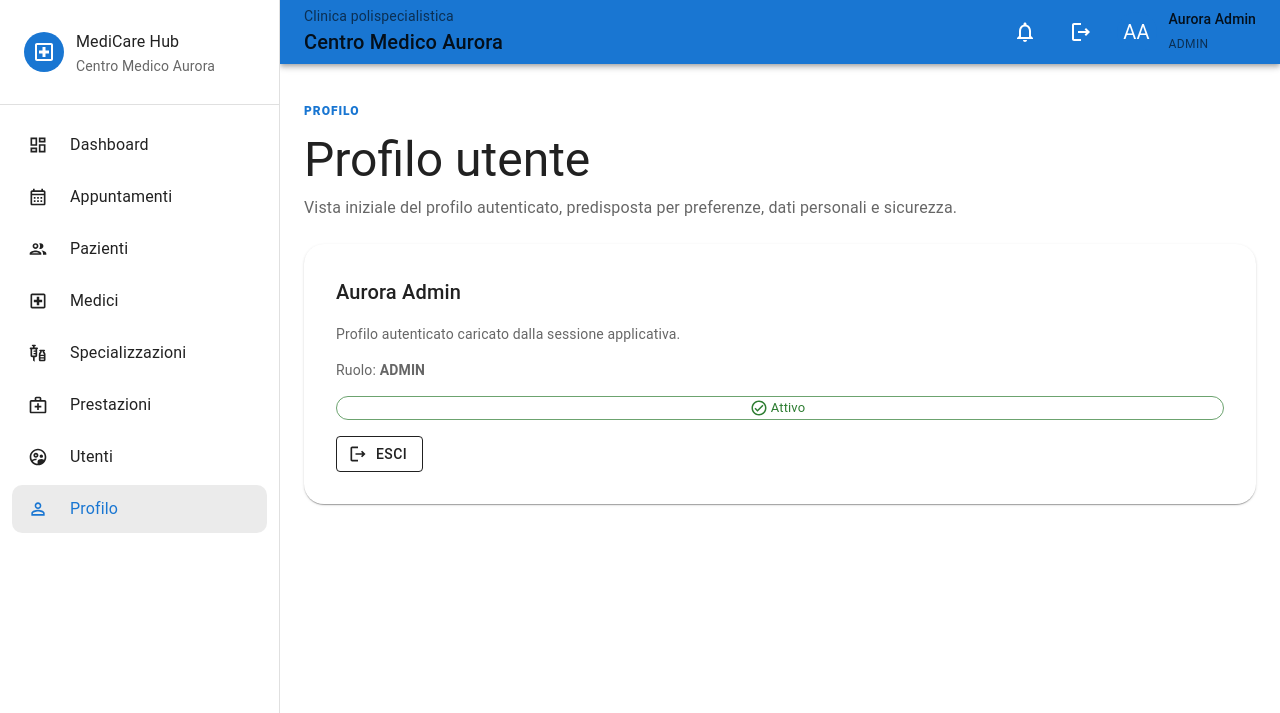
frontend auth › logs out from profile page
Click the button "Esci".
click(380, 454)  # box [336, 436, 423, 472]
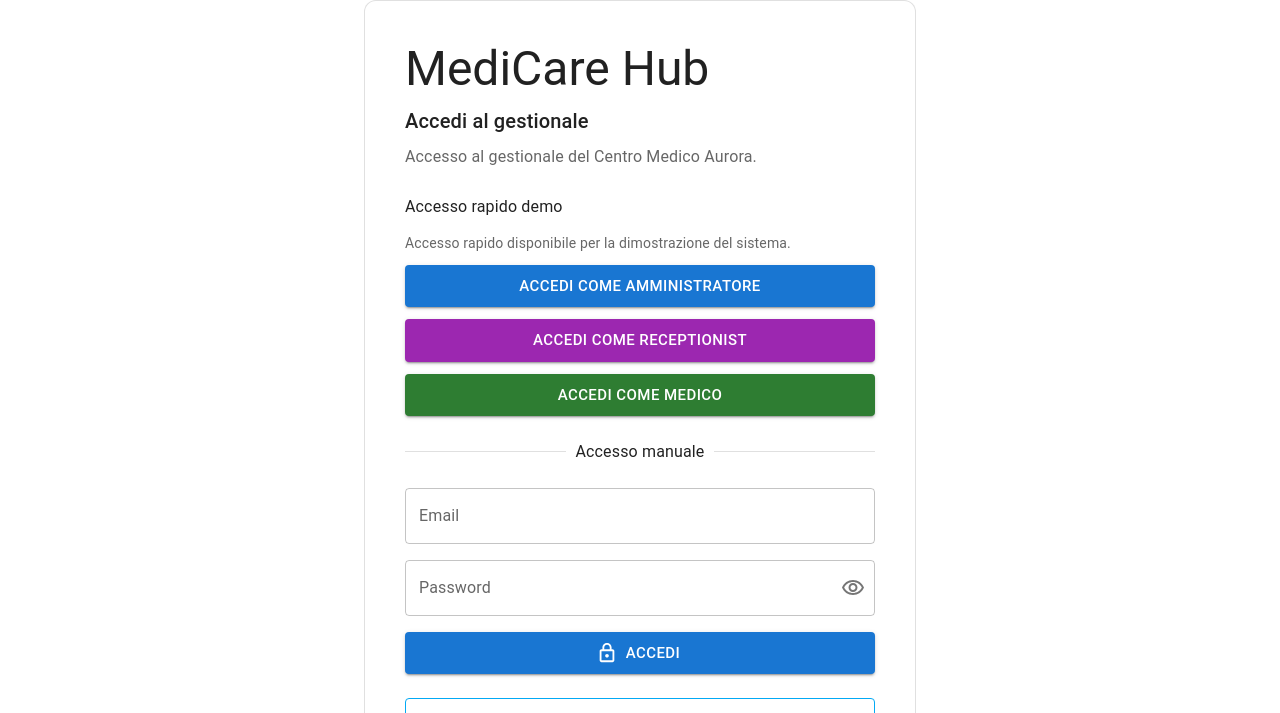
expect the field labelled "Email" is shown: met, box [405, 488, 875, 544]
